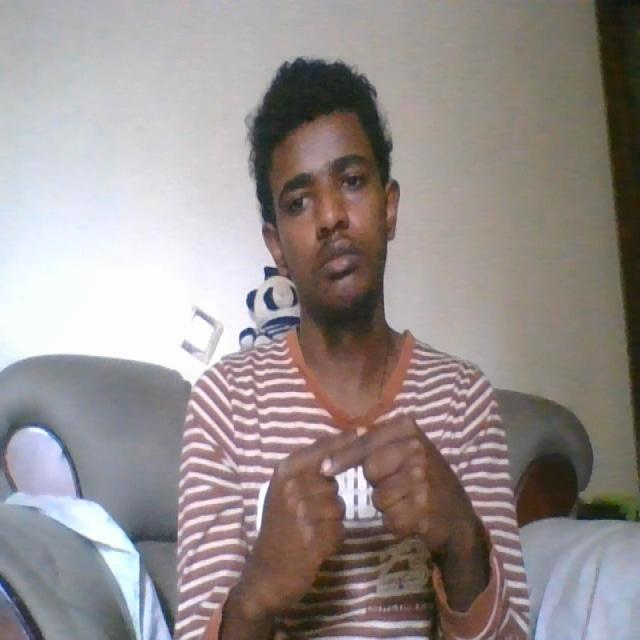eske: (253, 423, 456, 581)
